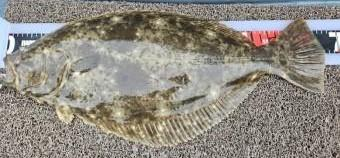fish: (0, 11, 326, 148)
